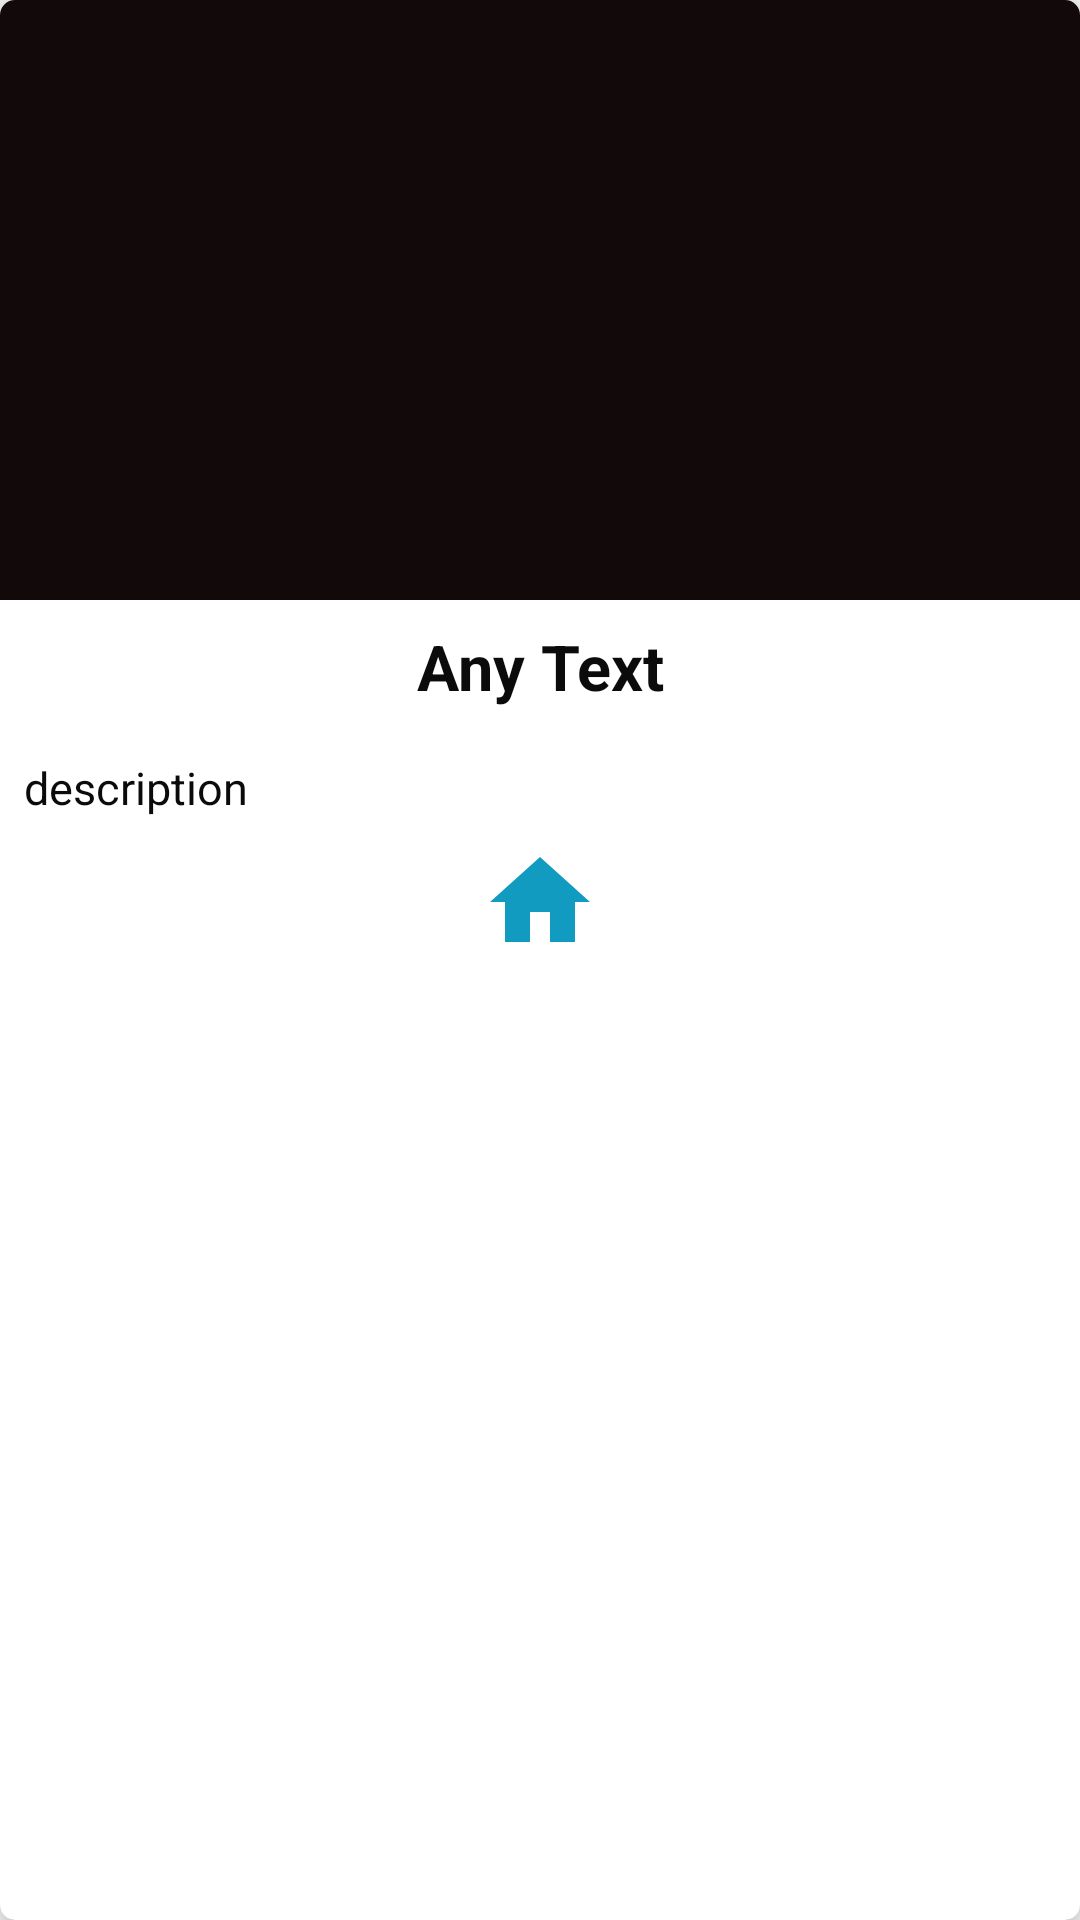

Icon click points for this 1080px x 1920px phone screenshot, format (x=x, y=y):
home: (x=540, y=899)
